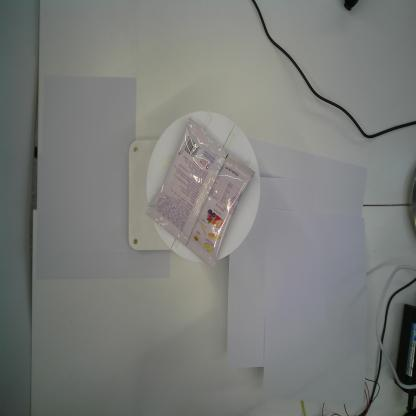Instant Drink: (145, 116, 256, 270)
